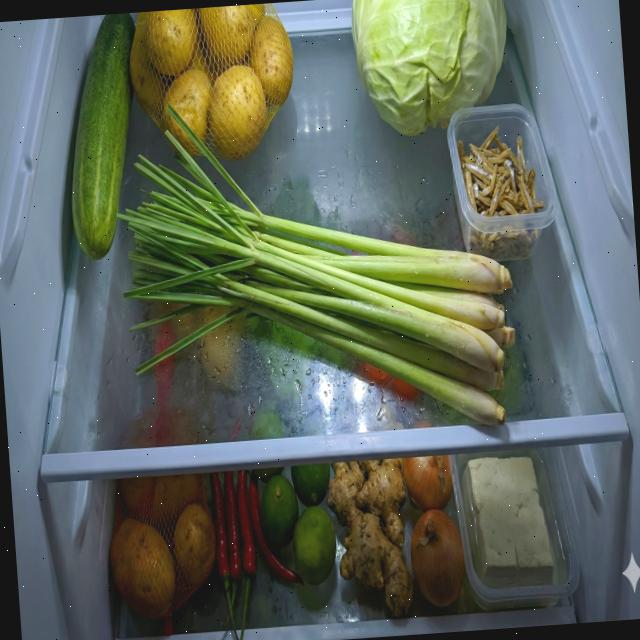anchovies: (454, 118, 548, 266)
cabbage: (350, 0, 512, 139)
chili: (208, 464, 309, 640)
cucumber: (58, 12, 150, 260)
ginger: (324, 457, 414, 623)
lemongrass: (108, 74, 524, 455)
lime: (258, 463, 339, 590)
onion: (401, 451, 467, 610)
potato: (126, 2, 302, 166), (101, 472, 221, 620)
tofu: (460, 456, 558, 592)
